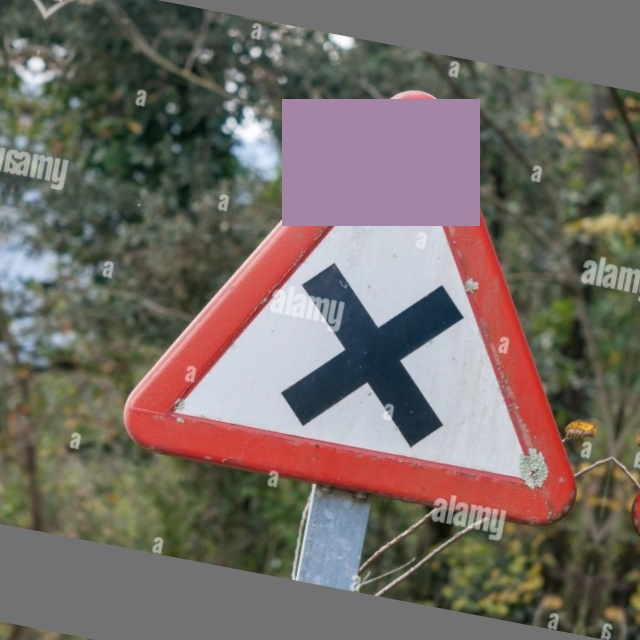Cross_Road: (126, 49, 639, 529)
